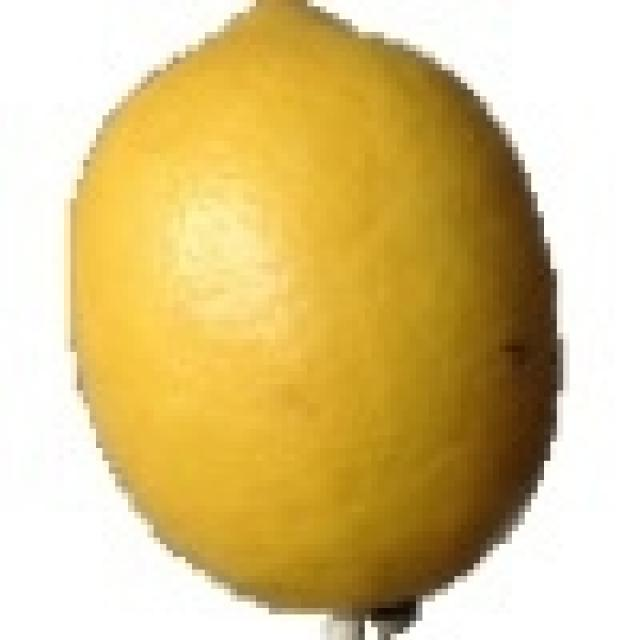lemon: (72, 0, 555, 619)
